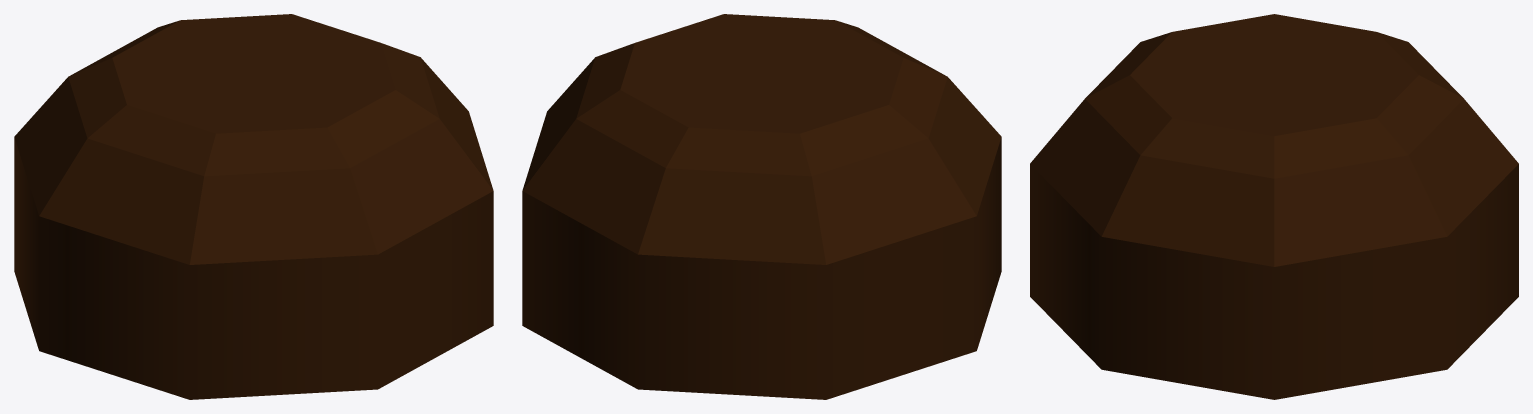
File: detail_rock.fbx
3 views of the same model, side by side, from view 1: azimuth 30°, elevation 25°; view 2: azimuth 150°, elevation 25°; view 3: azimuth 270°, elevation 25° (orthographic).
Parts seen in each view (by area): view 1: rock; view 2: rock; view 3: rock.
Boxes of the visible parts, x1,y1,x2,y2 form: rock: (14, 14, 493, 399); rock: (522, 14, 1001, 399); rock: (1030, 14, 1518, 399).
Bounding box in the file's own units: 100 × 50 × 100.
